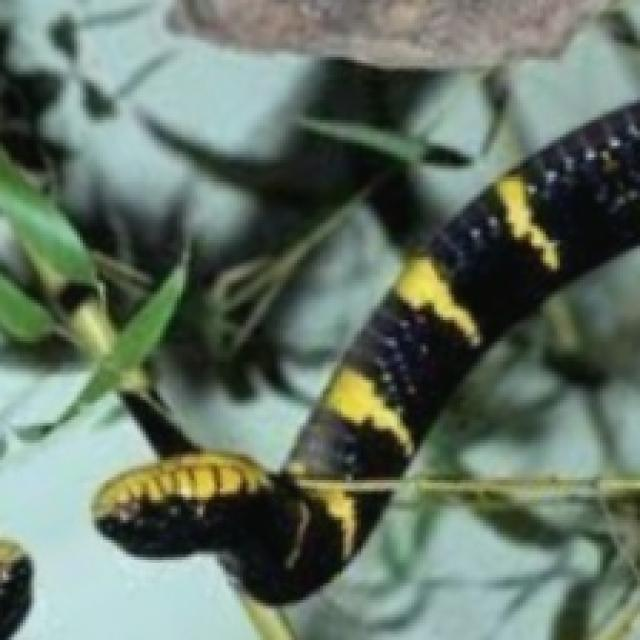mangrove cat snake: (91, 29, 637, 603), (91, 103, 637, 603)
